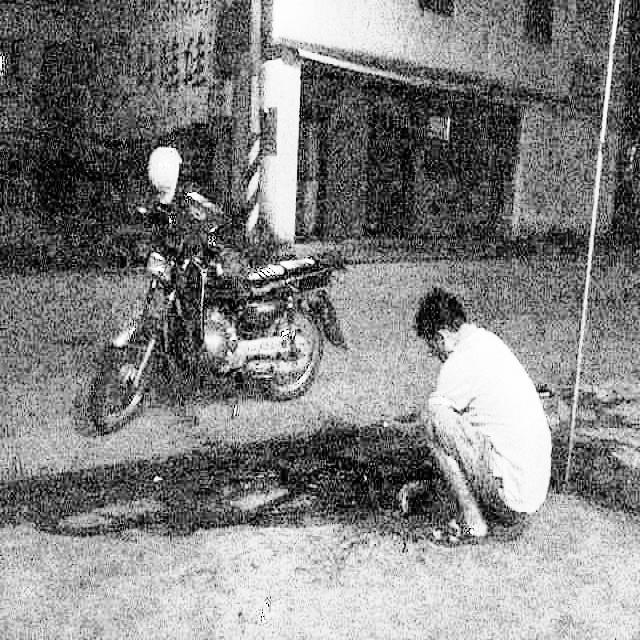Motorcycle: (79, 138, 354, 432)
Person: (379, 276, 562, 546)
